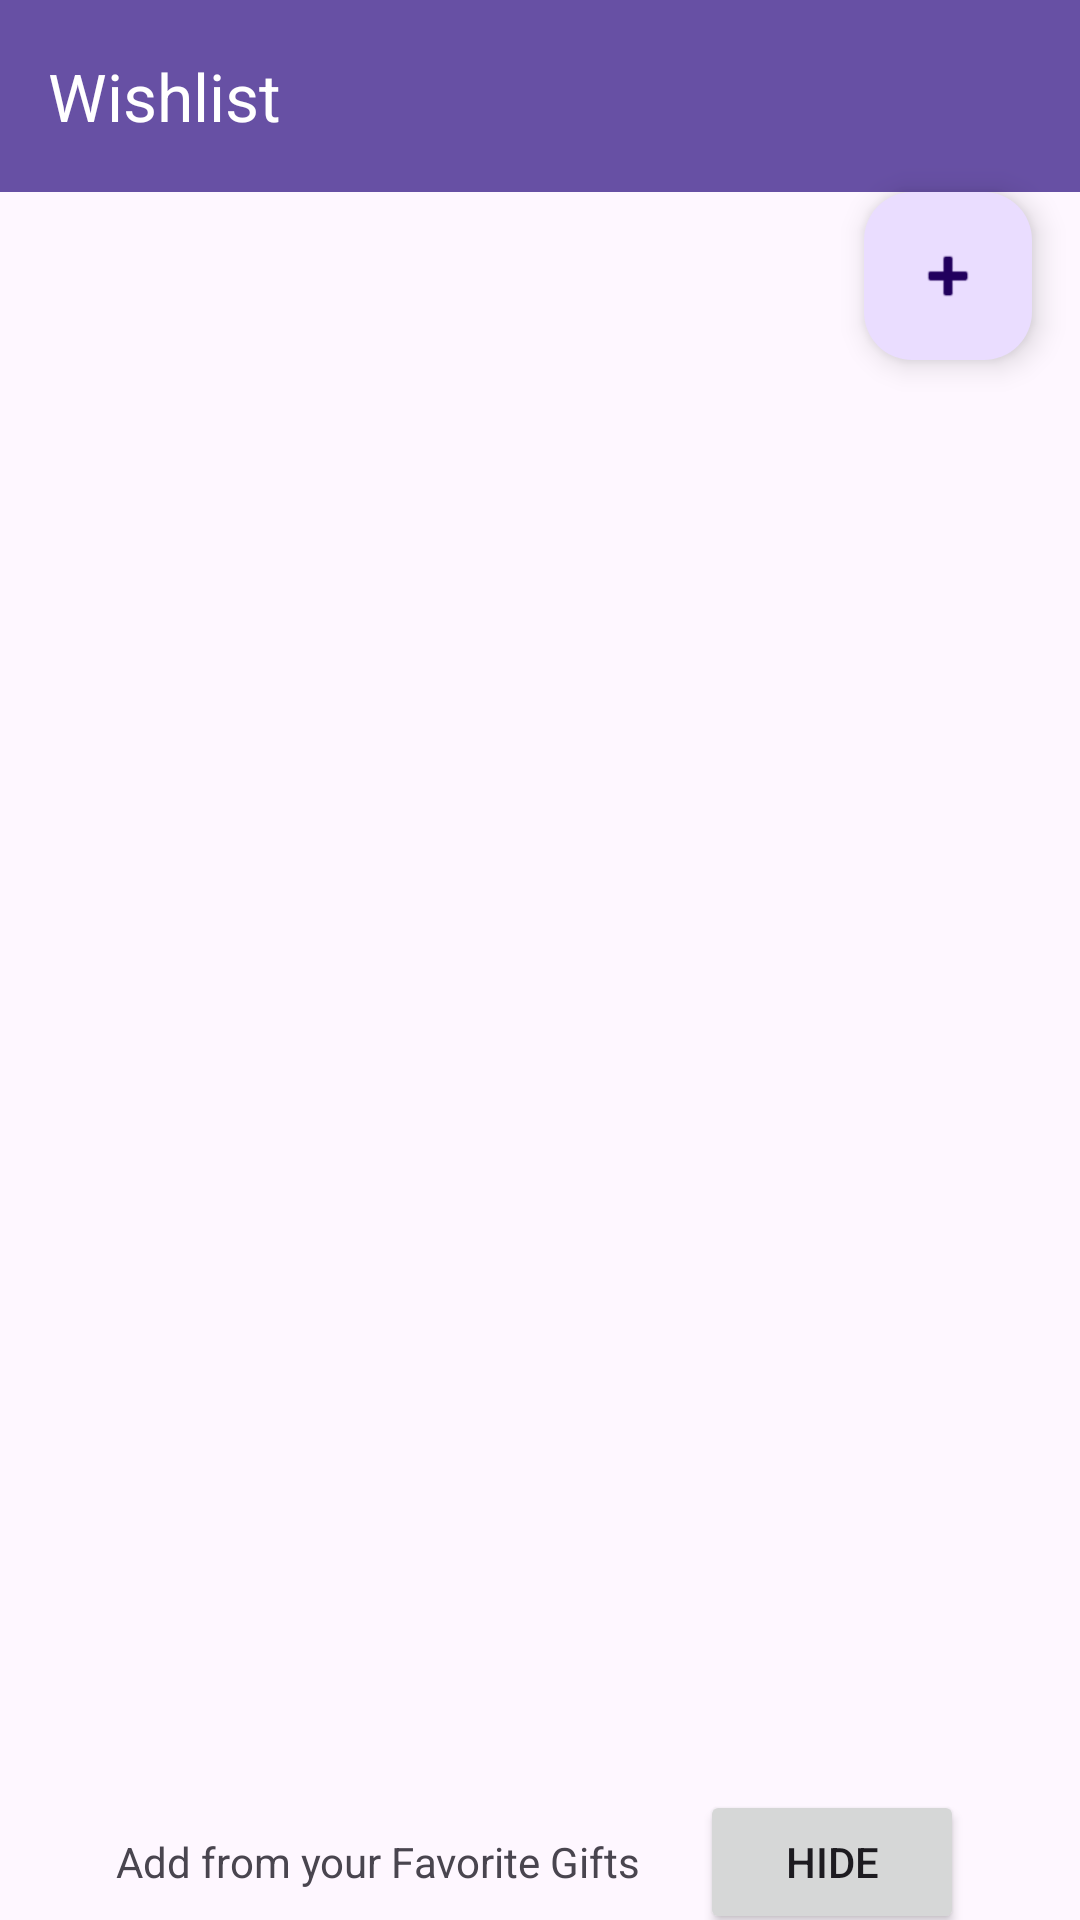

Named icons in this screenshot (1080×1920) and their centers, point (x, y):
Add to Wishlist: point (948, 276)
